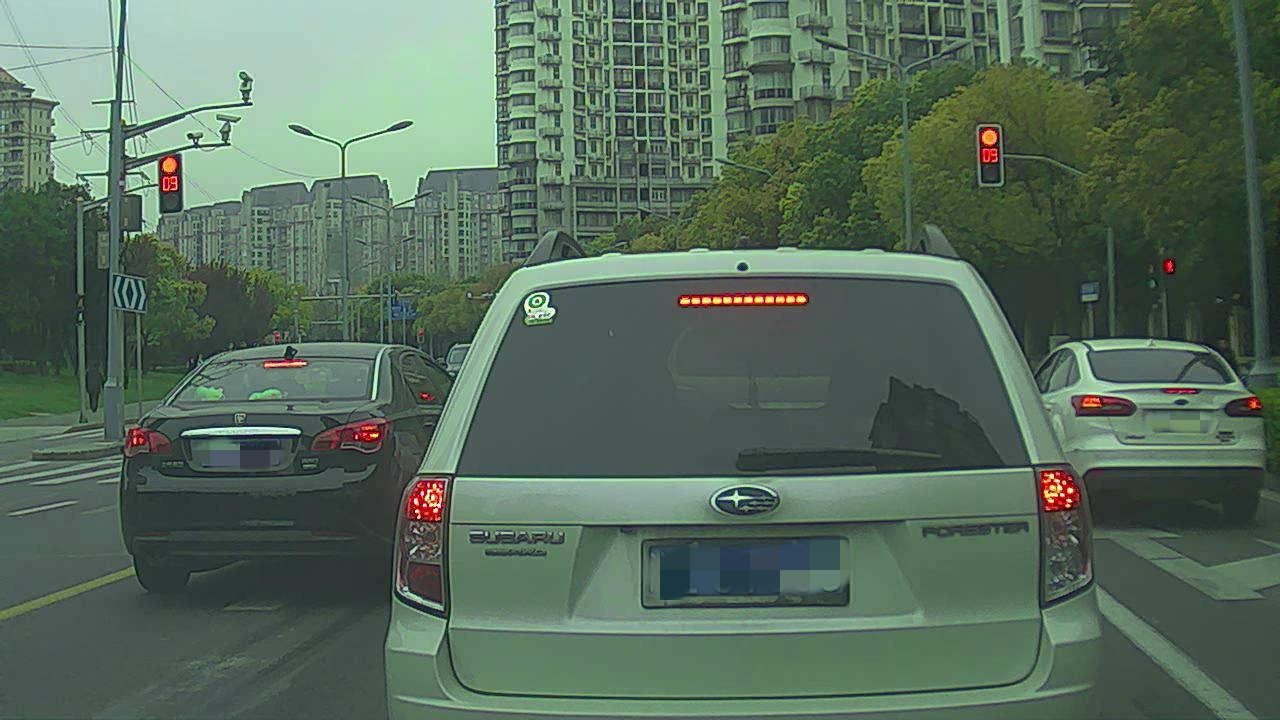traffic_light: (977, 123, 1003, 184), (159, 154, 184, 207)
